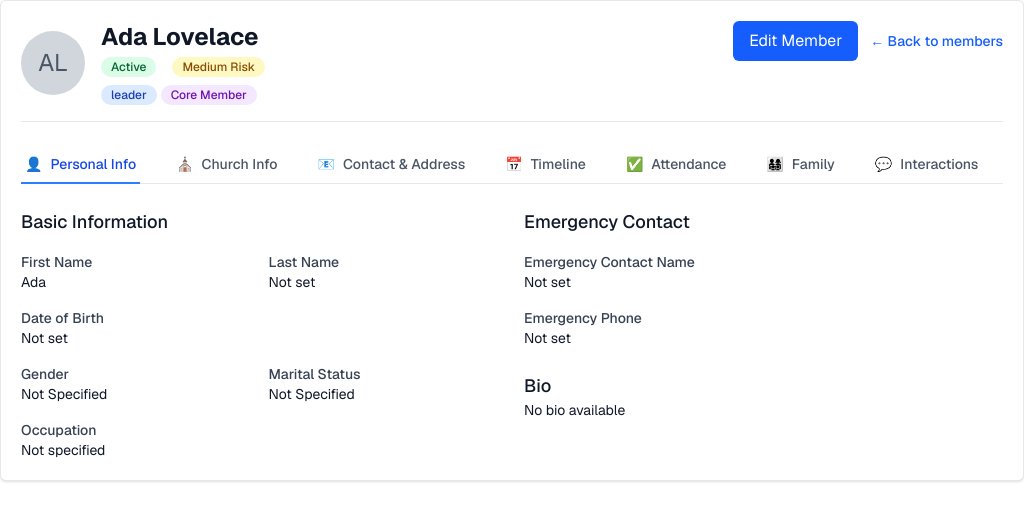
Test: MemberProfile › says so when no service was attended, and offers Retry on an error
Check: the heading "Ada Lovelace" is shown, box [101,21,265,53]
Click the tab "✅ Attendance" at coordinates (676, 165), box [622,146,730,184]
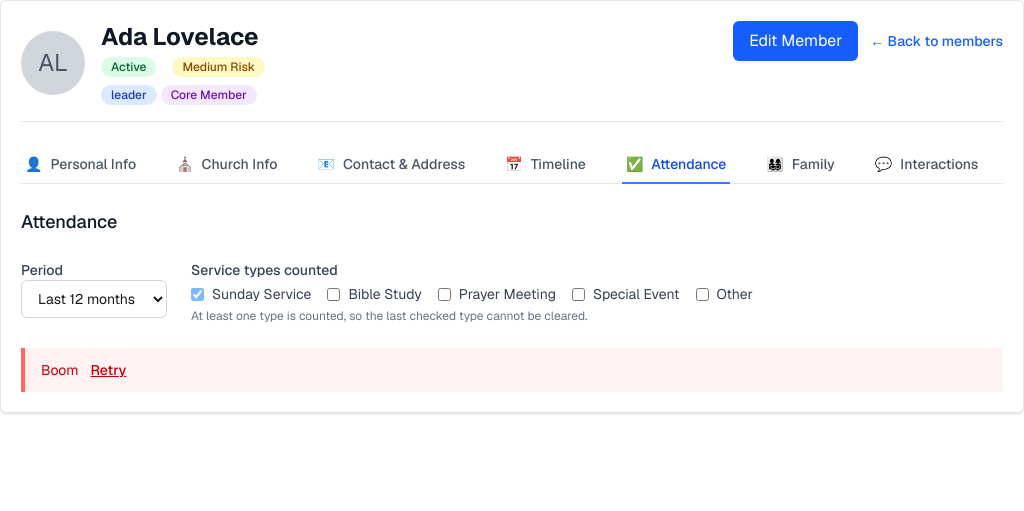
Click the button "Retry" at coordinates (108, 370), box [90,360,126,380]
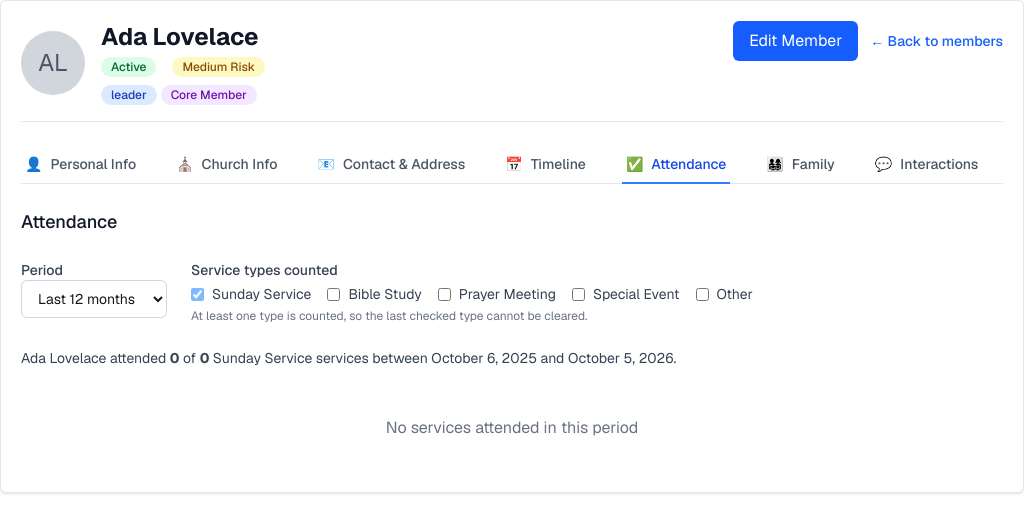
Check: the text "%" is not shown, box [21,349,676,367]
Check: the text "No services attended in this period" is shown, box [386,417,638,438]
